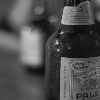beer: (44, 1, 94, 100)
